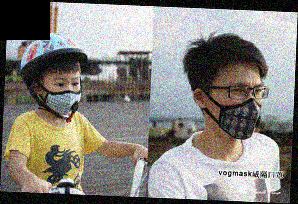with_mask: (205, 78, 265, 141), (42, 74, 83, 117)
